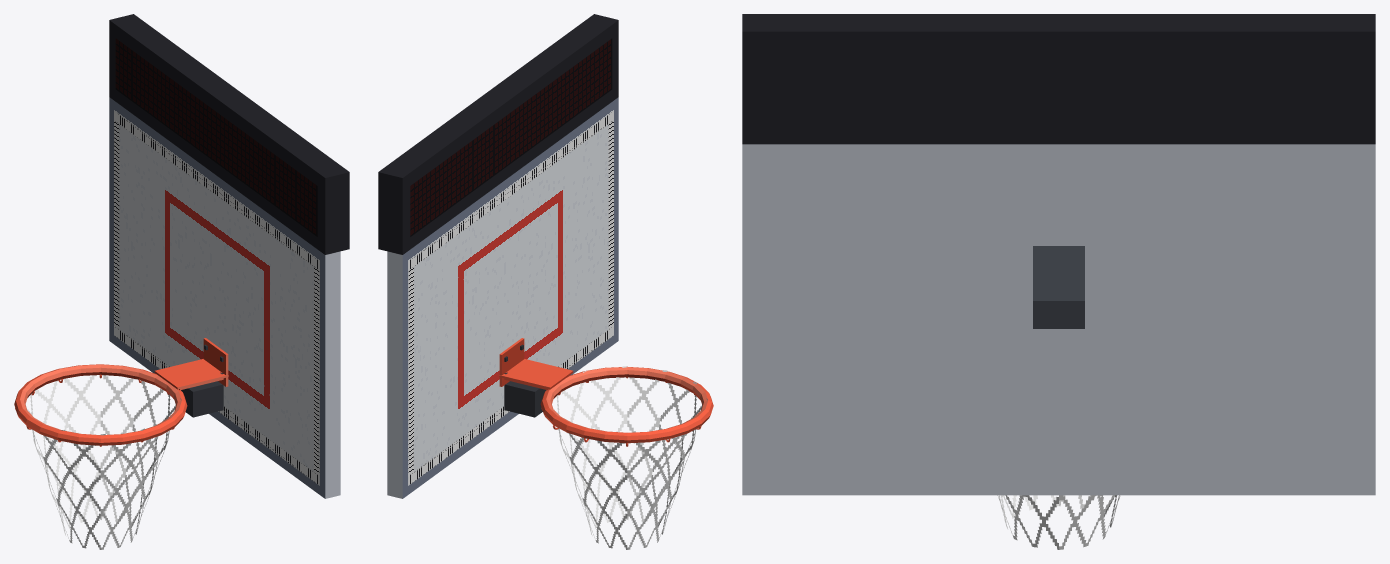
Rendered from hoop.glb.
3 renders of one model, left to right at view 1: azimuth 30°, elevation 25°; view 2: azimuth 150°, elevation 25°; view 3: azimuth 270°, elevation 25°, orthographic. The views are drawn at different scales.
Parts seen in each view (by area): view 1: Backboard, LedHousing, LedFace, Net, BoardBand, Rim, NeckTongue, SpringBox, RimPlate; view 2: Backboard, LedHousing, LedFace, Net, BoardBand, Rim, NeckTongue, SpringBox, RimPlate; view 3: Backboard, LedHousing, BoardArm, Net.
Boxes of the visible parts, box(x1,y1,x2,y2) form: Backboard: box(109, 97, 340, 498); LedHousing: box(109, 14, 349, 254); LedFace: box(115, 38, 317, 236); Net: box(27, 375, 181, 549); BoardBand: box(114, 111, 319, 485); Rim: box(14, 364, 187, 445); NeckTongue: box(154, 359, 228, 389); SpringBox: box(181, 381, 223, 417); RimPlate: box(203, 338, 228, 386); Backboard: box(387, 97, 618, 498); LedHousing: box(378, 14, 618, 254); LedFace: box(410, 38, 612, 236); Net: box(554, 366, 707, 549); BoardBand: box(408, 111, 613, 485); Rim: box(540, 366, 713, 443); NeckTongue: box(499, 359, 573, 389); SpringBox: box(504, 381, 546, 417); RimPlate: box(499, 338, 524, 386); Backboard: box(742, 144, 1375, 495); LedHousing: box(742, 14, 1375, 144); BoardArm: box(1033, 246, 1084, 328); Net: box(997, 495, 1120, 549).
Bounding box in the file's own units: 0.9242 × 1.27 × 1.22.
Materials: 9 (5 with a texture image).
